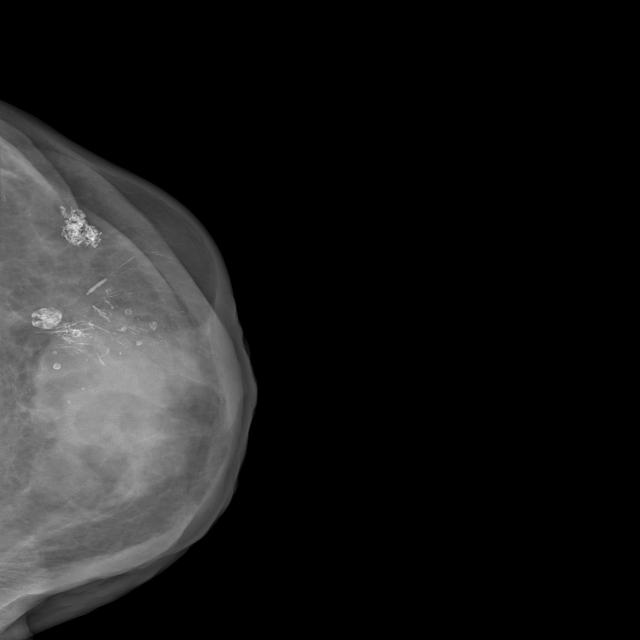Mass_1: (2, 280, 249, 493)
